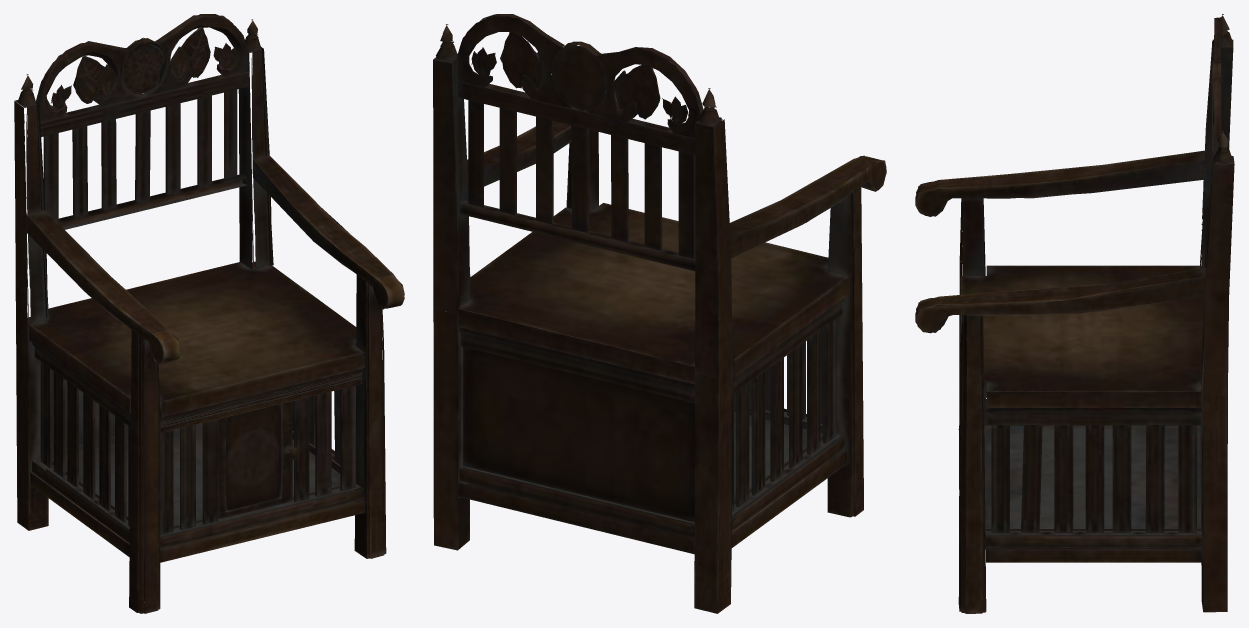
The model's file is ph_gallinera_chair.glb.
The picture shows the model from 3 angles, left to right: view 1: azimuth 30°, elevation 25°; view 2: azimuth 150°, elevation 25°; view 3: azimuth 270°, elevation 25°; orthographic projection. The views are drawn at different scales.
Parts seen in each view (by area): view 1: gallinera_chair; view 2: gallinera_chair; view 3: gallinera_chair.
Part boxes in pixels (x1=…): gallinera_chair: x1=14, y1=14, x2=404, y2=613; gallinera_chair: x1=433, y1=14, x2=886, y2=613; gallinera_chair: x1=915, y1=14, x2=1234, y2=613.
Size of the model in its own units: 0.5803 by 1.03 by 0.602.
Materials: 1 (1 with a texture image).
